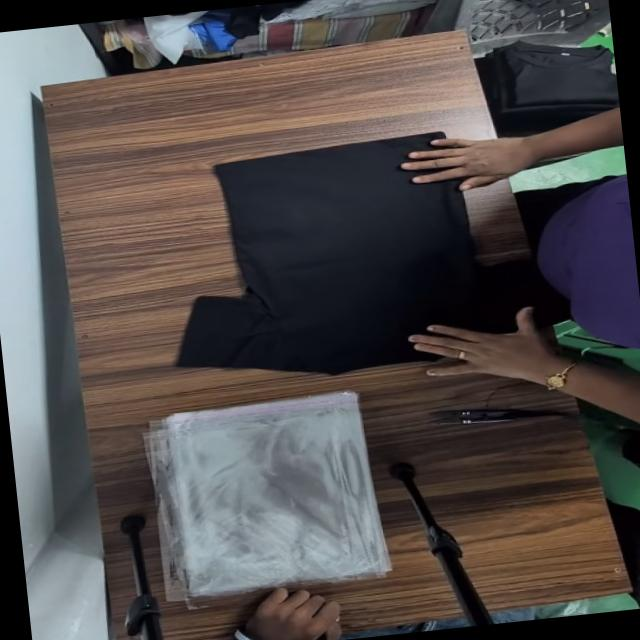new-garment: (178, 133, 495, 373)
